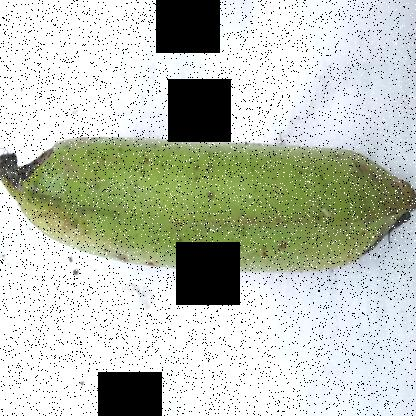rotten: (354, 190, 415, 276), (0, 120, 67, 188)
unripe: (0, 103, 415, 282)
